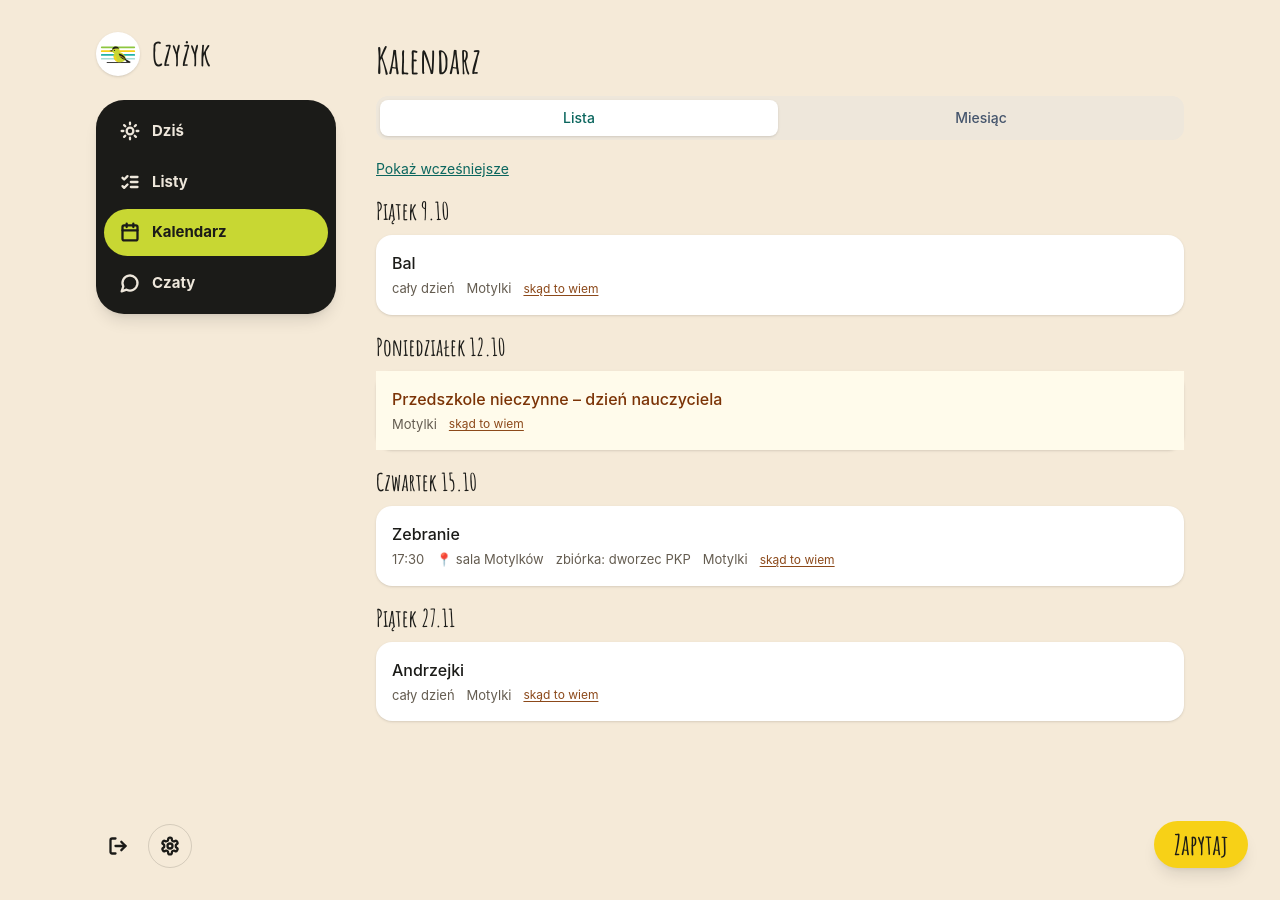
it: Kalendarz – miesiąc › pokazuje elementy wybranego dnia i przełącza miesiące
What coordinates should you click on to do the following:
click the tab "Miesiąc"
I would click on:
 (981, 118)
Its box is [782, 100, 1180, 136].
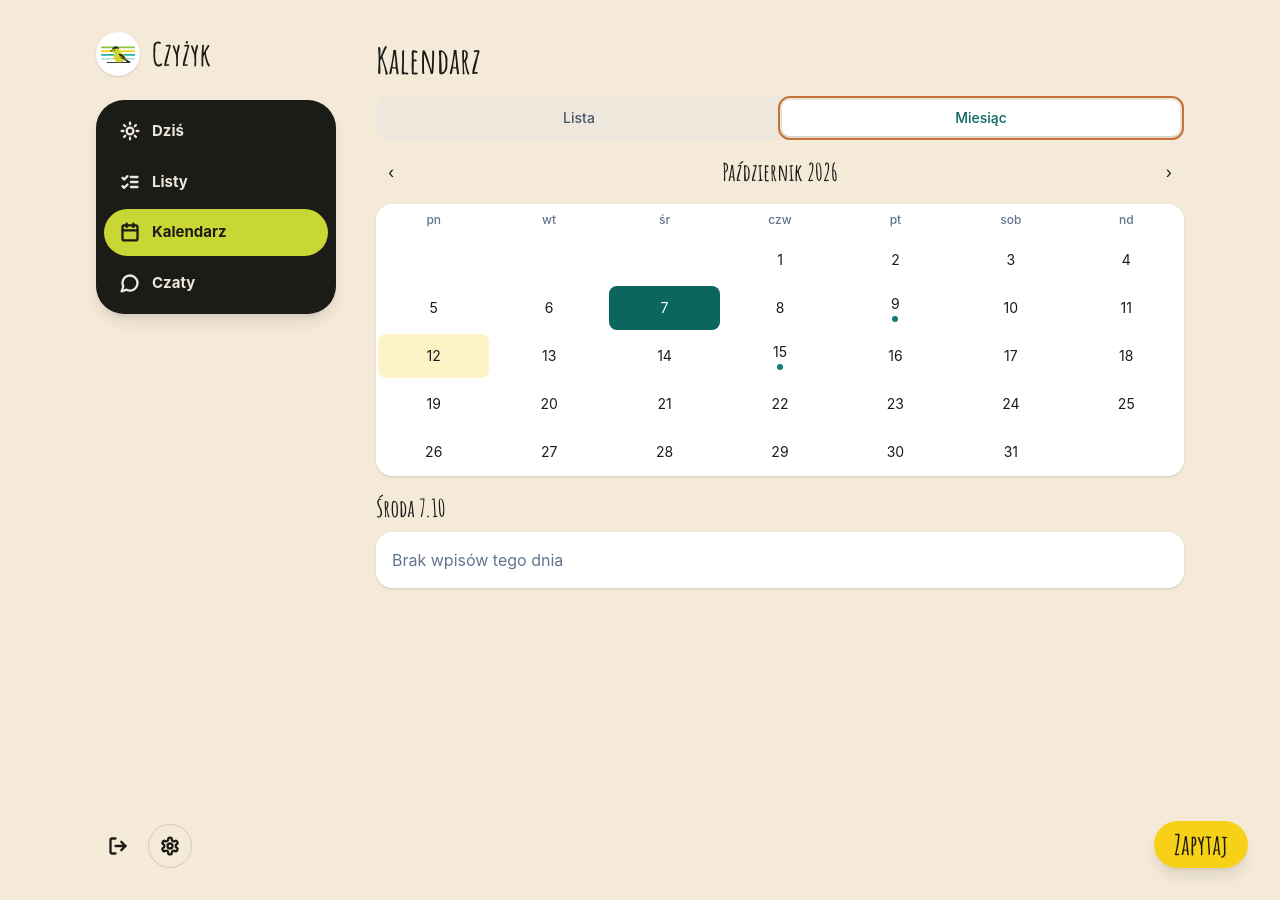
Check: the heading "październik 2026" is shown, box [722, 156, 838, 188]
What coordinates should you click on to do the following:
click the button named "Piątek 9.10, 1 wpisy"
I would click on:
 (895, 308)
Its box is [840, 286, 951, 330].
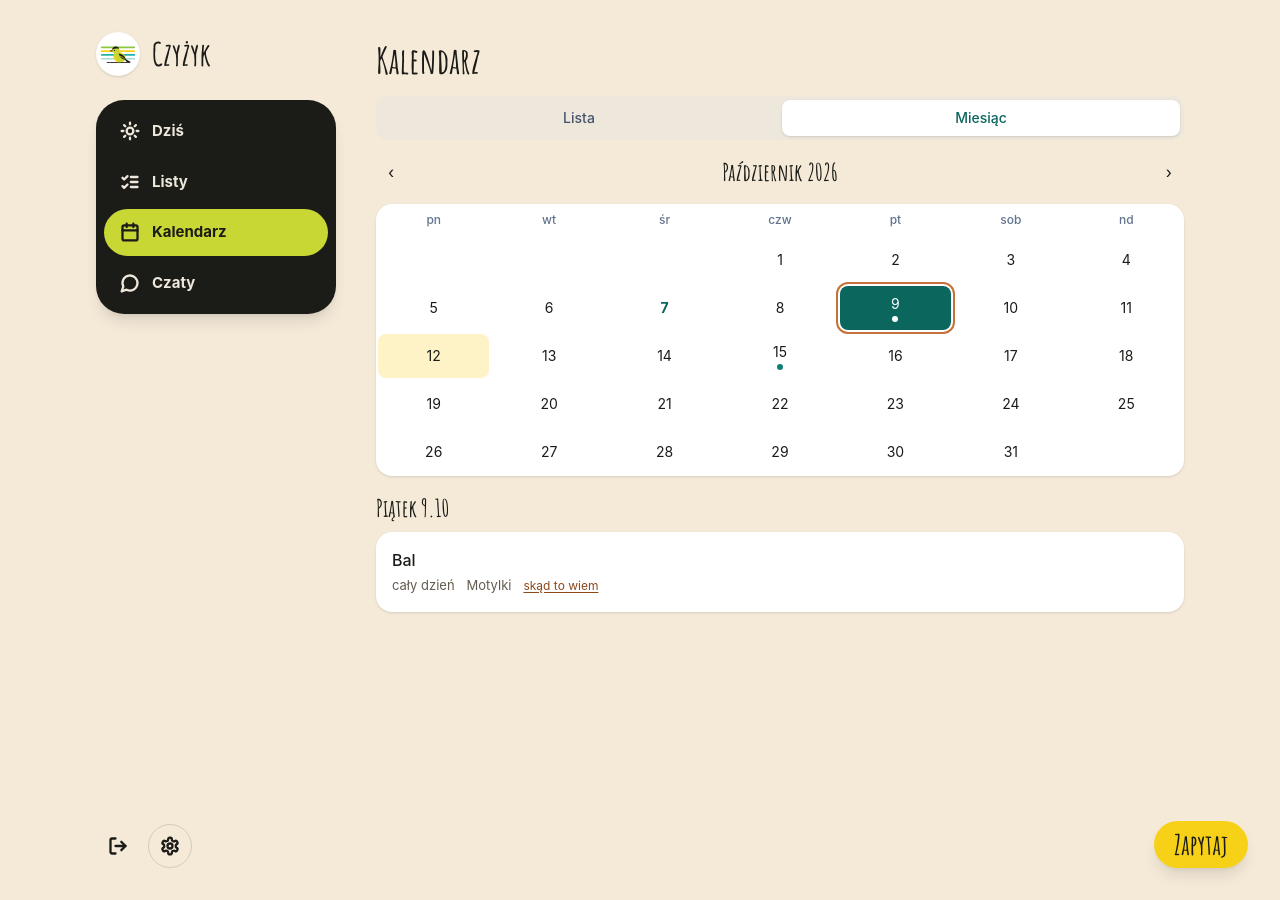
Check: the link "Bal" is shown, box [392, 550, 416, 570]
What coordinates should you click on to do the following:
click the button named "Środa 14.10"
I would click on:
 (664, 356)
Its box is [609, 334, 720, 378].
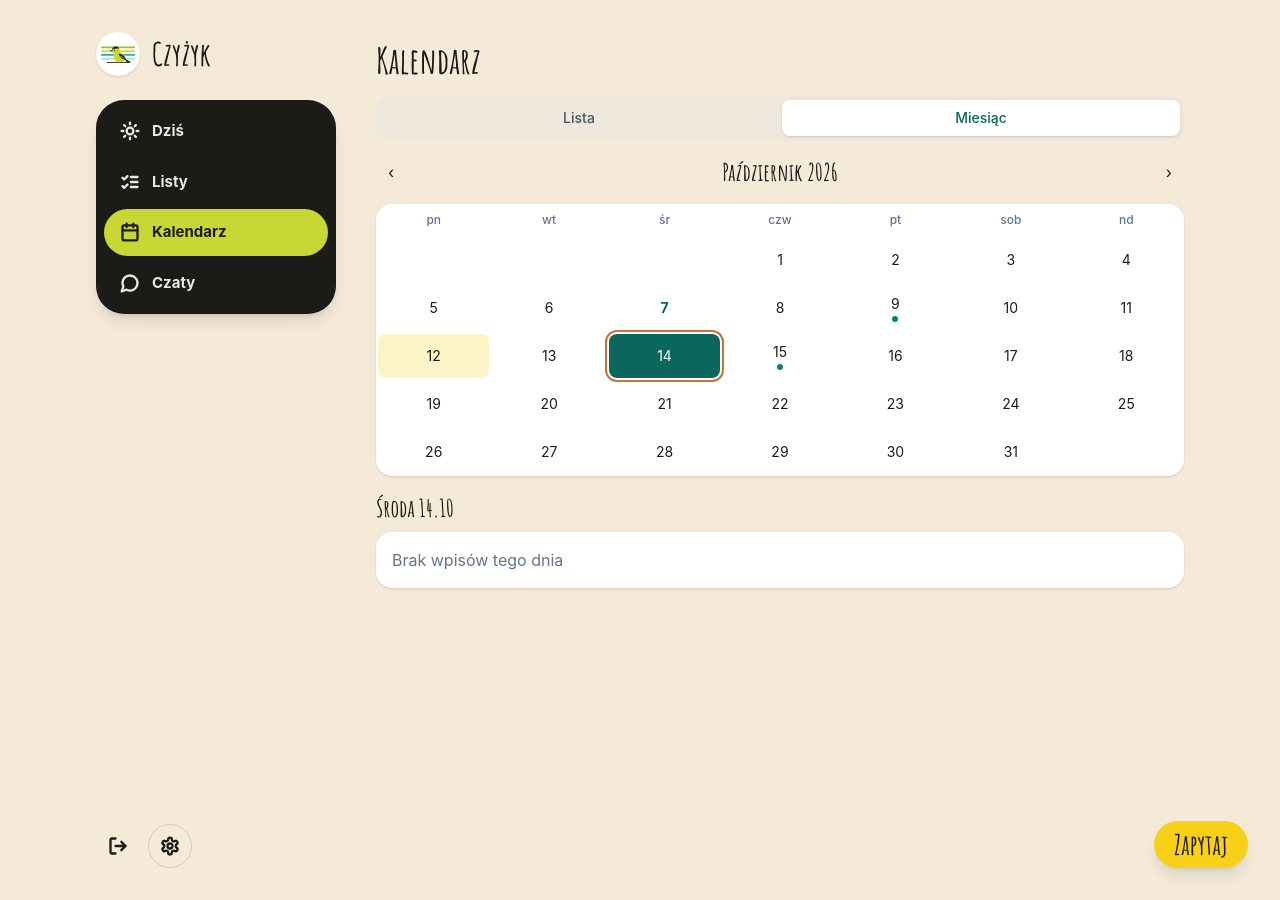
Check: the text "Brak wpisów tego dnia" is shown, box [376, 532, 1184, 588]
What coordinates should you click on to do the following:
click the button named "Następny miesiąc"
I would click on:
 (1169, 172)
Its box is [1154, 156, 1184, 188].
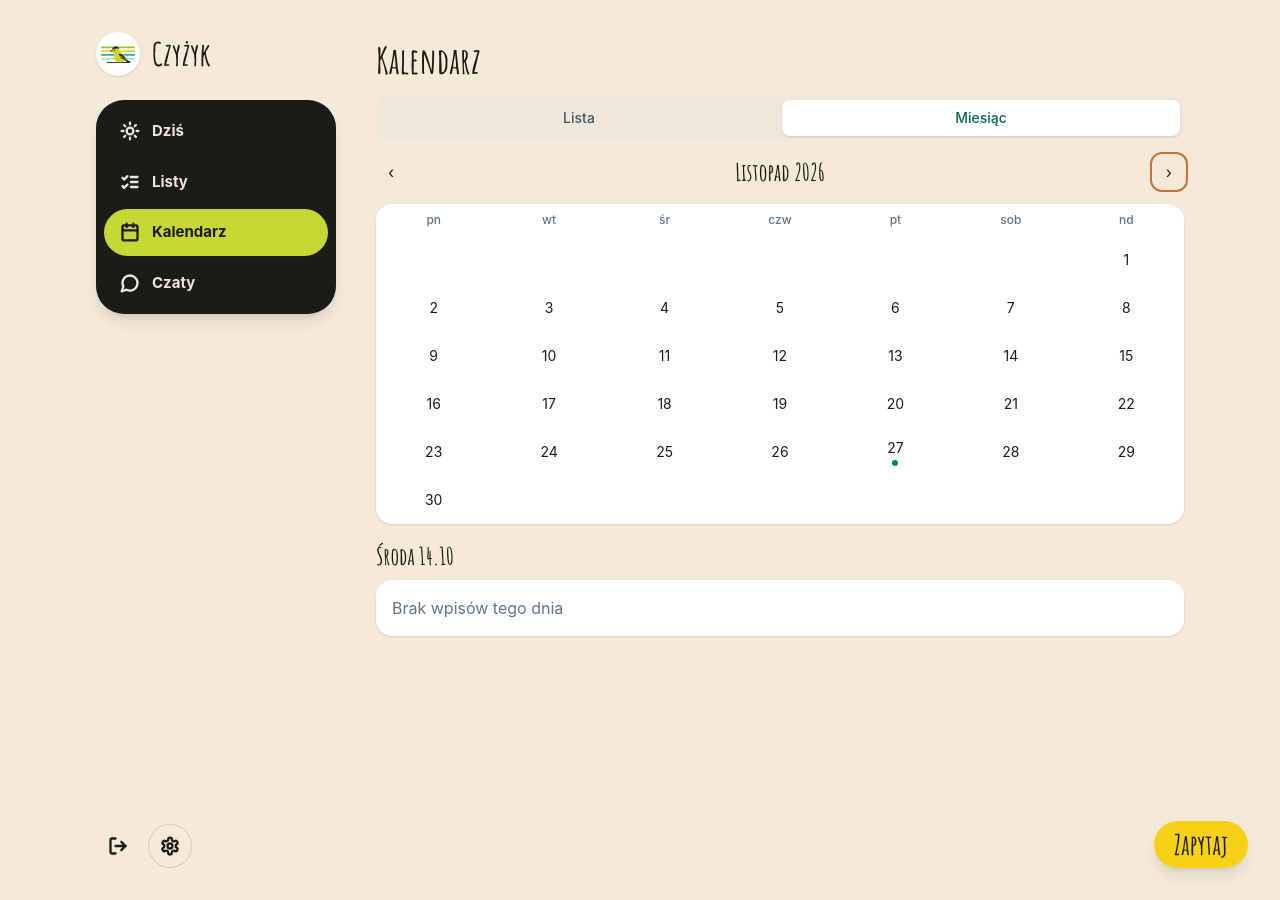
Check: the heading "listopad 2026" is shown, box [735, 156, 825, 188]
What coordinates should you click on to do the following:
click the button named "Piątek 27.11, 1 wpisy"
I would click on:
 (895, 452)
Its box is [840, 430, 951, 474].
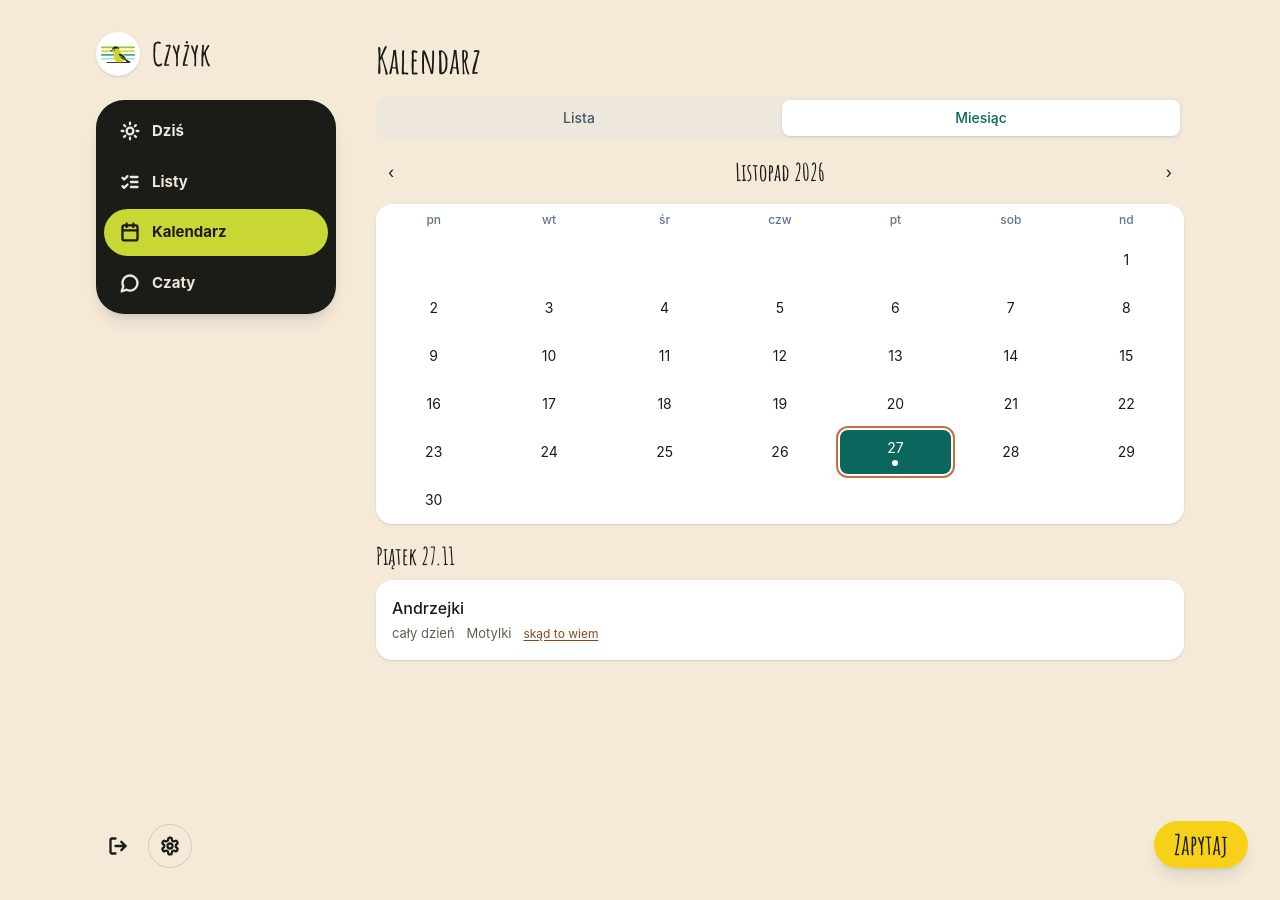
Check: the link "Andrzejki" is shown, box [392, 598, 464, 618]
